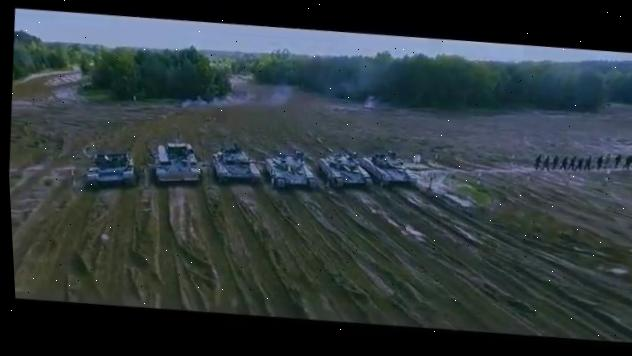person: (581, 153, 592, 171), (540, 152, 550, 170), (532, 152, 542, 169), (572, 155, 583, 170), (557, 153, 567, 169), (566, 154, 576, 170), (594, 153, 603, 169), (550, 153, 558, 169), (603, 152, 611, 168), (613, 152, 621, 168), (628, 151, 632, 168)
tank: (207, 140, 267, 186), (354, 146, 419, 188), (313, 147, 375, 190), (261, 146, 319, 190), (151, 140, 202, 185), (84, 147, 136, 190)
